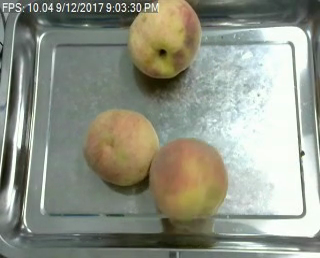Peach: (150, 136, 228, 224), (83, 108, 160, 190), (126, 0, 204, 79)
